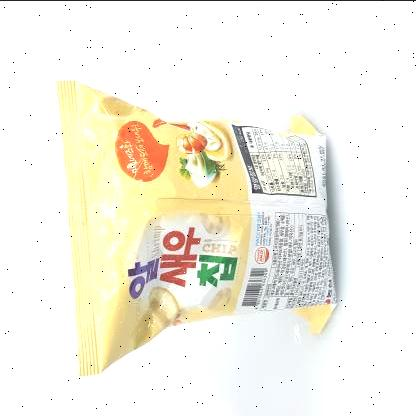Others: (52, 72, 350, 384)
